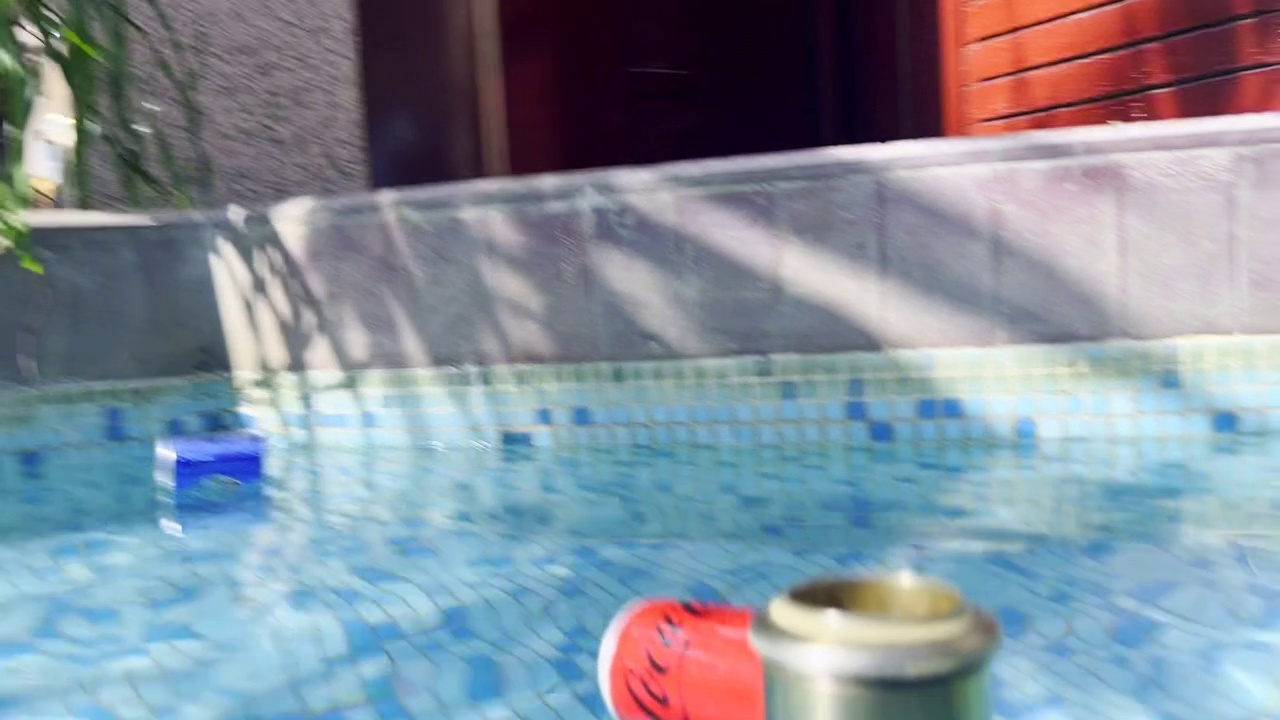debris: (576, 579, 813, 720), (146, 424, 270, 508)
